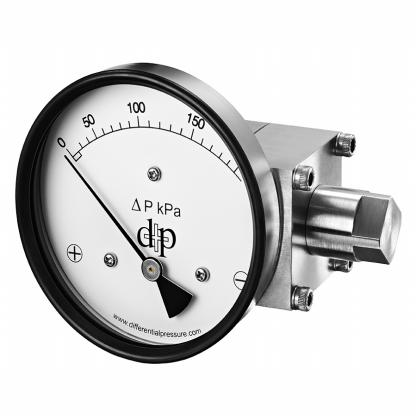needle: (62, 153, 148, 261)
